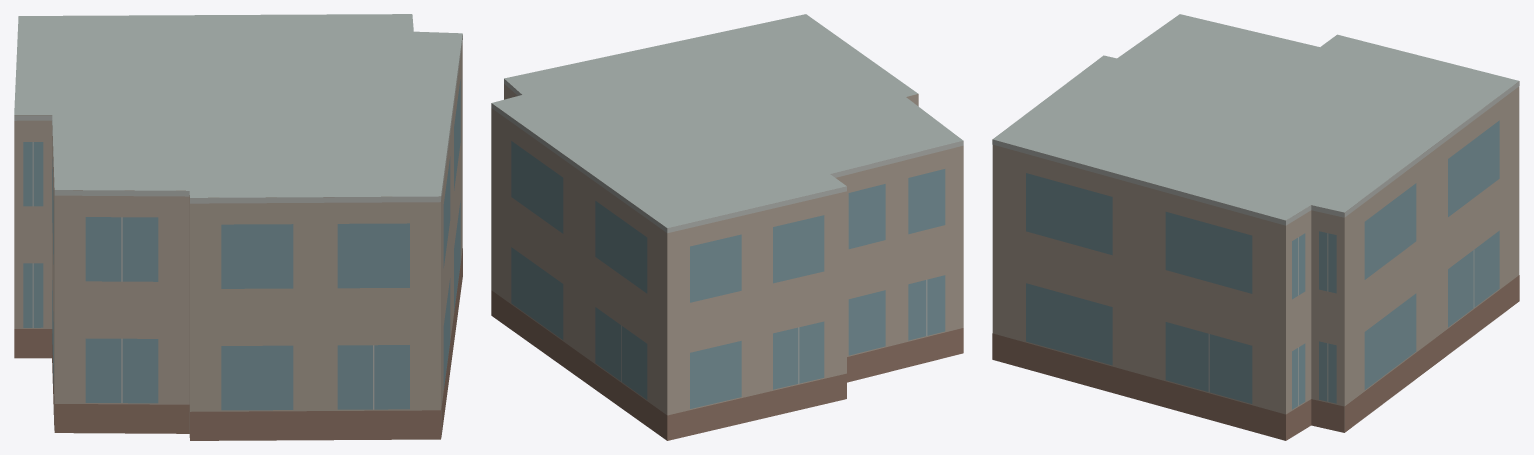
Rendered from survey-upis-33026472.glb.
3 views of the same model, side by side, from view 1: azimuth 30°, elevation 25°; view 2: azimuth 150°, elevation 25°; view 3: azimuth 270°, elevation 25° (orthographic). The views are drawn at different scales.
Visible parts, largest first — view 1: survey-upis-33026472.tmp; view 2: survey-upis-33026472.tmp; view 3: survey-upis-33026472.tmp.
Part boxes in pixels (x1=…): survey-upis-33026472.tmp: x1=14, y1=14, x2=462, y2=440; survey-upis-33026472.tmp: x1=491, y1=14, x2=963, y2=440; survey-upis-33026472.tmp: x1=992, y1=14, x2=1519, y2=440.
Size of the model in its own units: 20.91 by 10.4 by 22.55.
